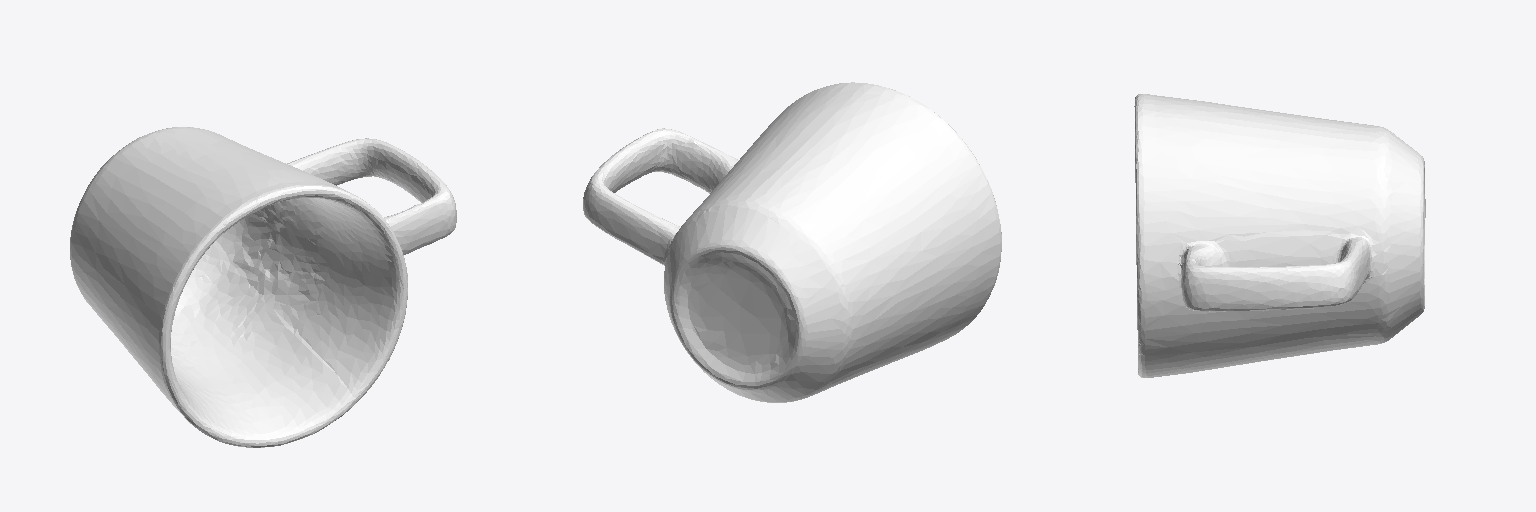
Rendered from Room_Essentials_Mug_White_Yellow_visual.obj.
3 renders of one model, left to right at view 1: azimuth 30°, elevation 25°; view 2: azimuth 150°, elevation 25°; view 3: azimuth 270°, elevation 25°, orthographic.
Size of the model in its own units: 0.1312 by 0.098 by 0.1005.